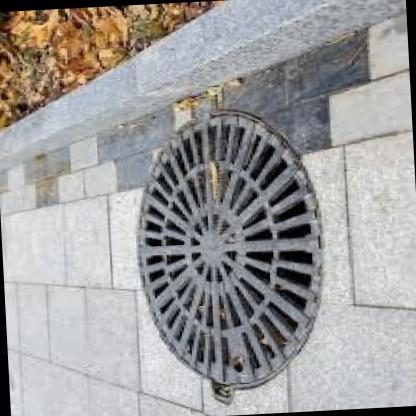manholes: (102, 66, 360, 416)
